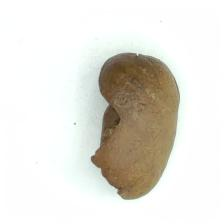NG: (92, 68, 131, 200)
